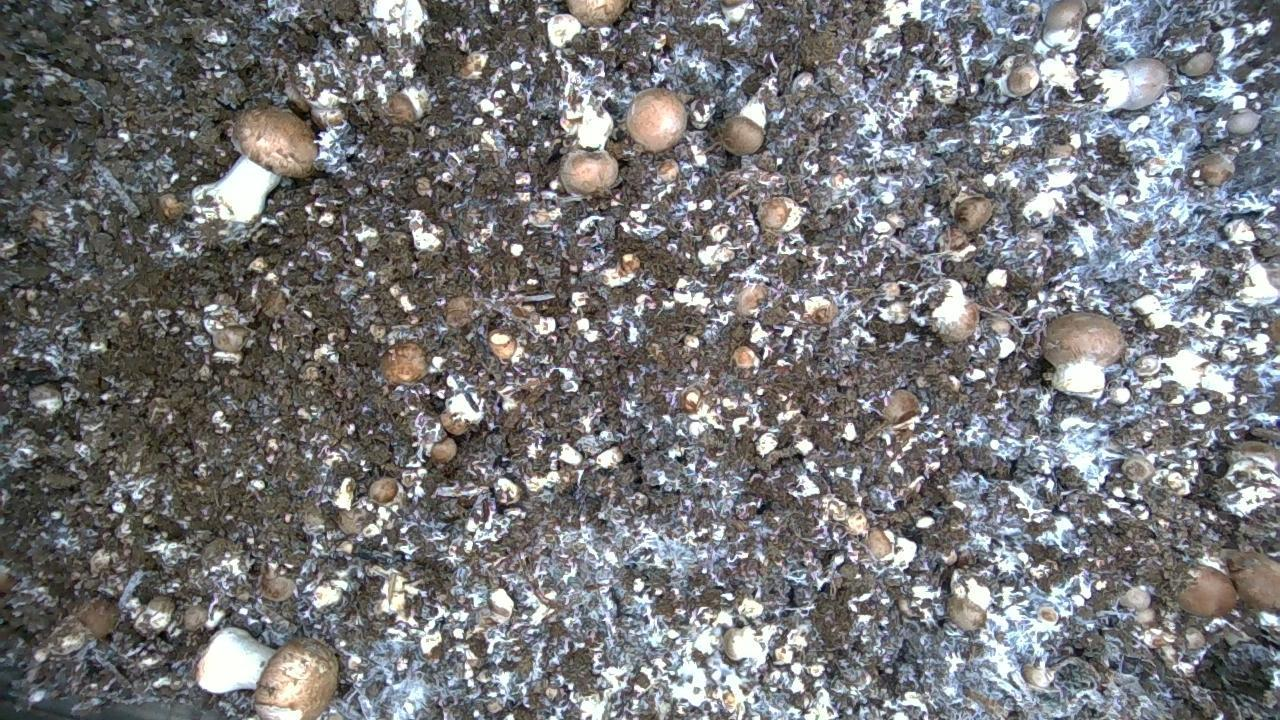BB: (1042, 312, 1125, 397), (254, 638, 338, 719), (233, 106, 317, 177), (626, 88, 686, 151), (1227, 551, 1279, 610), (1177, 567, 1237, 616), (560, 149, 618, 195), (719, 99, 765, 154), (1042, 0, 1086, 49), (381, 342, 428, 384), (566, 0, 628, 26), (386, 87, 430, 122), (757, 197, 802, 231), (953, 196, 992, 232), (947, 595, 986, 630), (883, 389, 918, 425), (1196, 153, 1234, 186), (445, 296, 474, 327), (369, 477, 397, 504)
